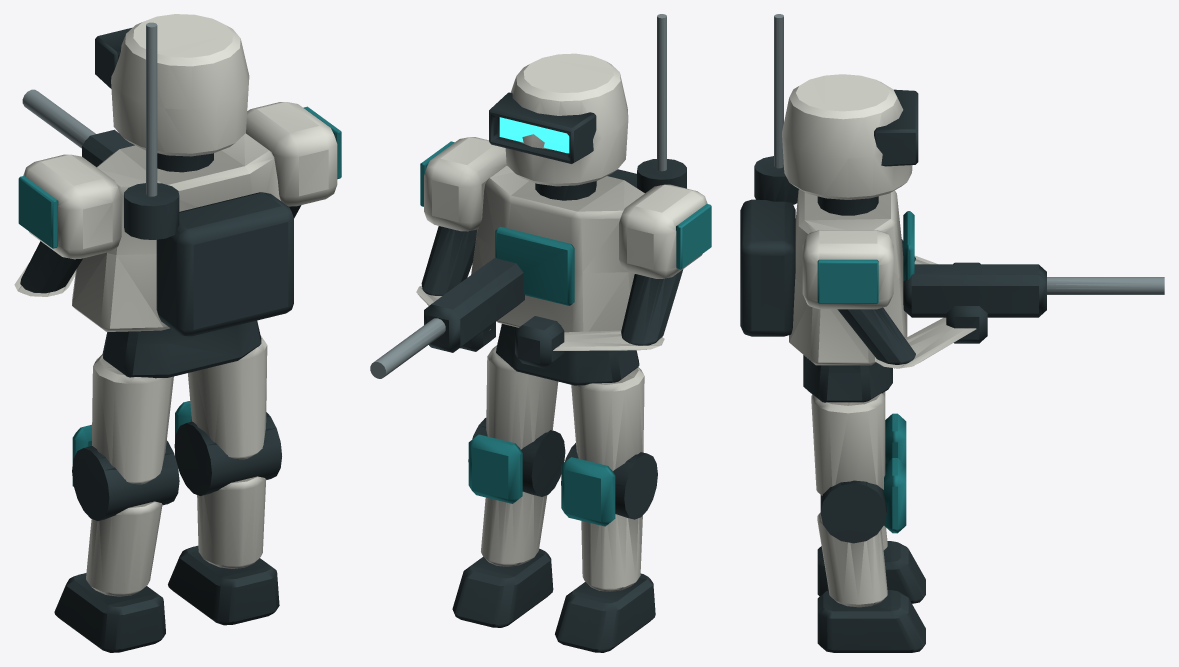
The model's file is VectorOperator.glb.
3 renders of one model, left to right at view 1: azimuth 30°, elevation 25°; view 2: azimuth 150°, elevation 25°; view 3: azimuth 270°, elevation 25°, orthographic. The views are drawn at different scales.
Visible parts, largest first — view 1: export_VectorOperator_Pelvis, export_VectorOperator_Thigh, export_VectorOperator_Thigh.001; view 2: export_VectorOperator_Pelvis, export_VectorOperator_Thigh, export_VectorOperator_Thigh.001; view 3: export_VectorOperator_Pelvis, export_VectorOperator_Thigh.001, export_VectorOperator_Thigh.
Boxes of the visible parts, x1=… form: export_VectorOperator_Pelvis: x1=14, y1=14, x2=341, y2=378; export_VectorOperator_Thigh: x1=54, y1=354, x2=179, y2=652; export_VectorOperator_Thigh.001: x1=168, y1=336, x2=281, y2=625; export_VectorOperator_Pelvis: x1=370, y1=14, x2=711, y2=385; export_VectorOperator_Thigh: x1=555, y1=367, x2=657, y2=652; export_VectorOperator_Thigh.001: x1=452, y1=345, x2=565, y2=627; export_VectorOperator_Pelvis: x1=740, y1=14, x2=1164, y2=402; export_VectorOperator_Thigh.001: x1=811, y1=393, x2=925, y2=652; export_VectorOperator_Thigh: x1=817, y1=392, x2=925, y2=603.
Size of the model in its own units: 1.07 by 2.28 by 1.53.
